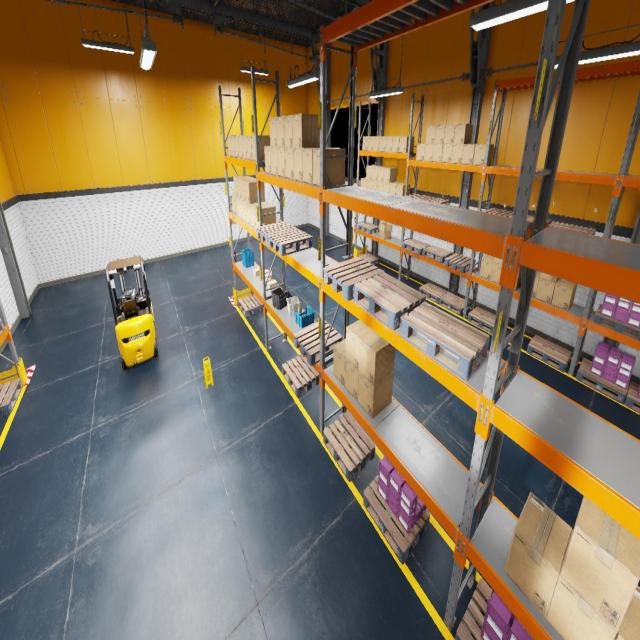box: (560, 496, 640, 632), (504, 492, 572, 618), (546, 530, 617, 640), (359, 331, 395, 386), (358, 372, 393, 418), (345, 320, 373, 371), (614, 586, 640, 640), (313, 148, 345, 187), (302, 148, 331, 184), (292, 113, 320, 148), (551, 278, 577, 310), (535, 278, 560, 304), (333, 338, 346, 387), (344, 358, 358, 402), (250, 202, 269, 228), (255, 204, 276, 227), (244, 180, 265, 203), (251, 135, 270, 160), (472, 144, 493, 165), (240, 178, 256, 202), (453, 124, 473, 143), (233, 176, 251, 197), (479, 255, 494, 280), (237, 177, 254, 199), (293, 148, 302, 181), (284, 114, 292, 148), (462, 144, 475, 164), (285, 148, 293, 179), (276, 116, 284, 147), (451, 144, 464, 163), (277, 147, 285, 177), (399, 136, 414, 152), (379, 222, 392, 240), (269, 117, 277, 146), (443, 125, 455, 144), (270, 147, 278, 175), (383, 167, 397, 183), (264, 146, 272, 173), (540, 272, 559, 283), (532, 271, 540, 297), (491, 263, 501, 283), (442, 144, 453, 162), (434, 125, 445, 143), (425, 125, 436, 143), (432, 144, 443, 162), (366, 164, 378, 180), (378, 166, 390, 181), (372, 165, 384, 180), (424, 144, 434, 162), (396, 183, 410, 195), (416, 142, 425, 160), (246, 135, 252, 160), (389, 182, 402, 193), (514, 270, 521, 290), (392, 136, 400, 152), (242, 136, 247, 159), (238, 136, 243, 158), (246, 202, 251, 224), (234, 136, 239, 157), (238, 198, 243, 219), (379, 136, 386, 151), (373, 136, 380, 151), (267, 280, 277, 290), (230, 136, 235, 156), (227, 136, 232, 156), (386, 136, 392, 152), (231, 194, 236, 213), (242, 200, 246, 221), (362, 136, 368, 150), (235, 196, 239, 216), (261, 278, 270, 286), (265, 270, 272, 280), (368, 136, 373, 150), (253, 267, 260, 276), (383, 182, 389, 192), (377, 181, 383, 191), (371, 180, 377, 190), (260, 269, 268, 276), (494, 257, 502, 264), (361, 177, 366, 187), (366, 179, 371, 188), (520, 266, 520, 270)
forklift: (106, 255, 158, 370)
pallets: (400, 302, 490, 381), (363, 475, 430, 564), (354, 273, 426, 330), (323, 411, 375, 482), (323, 256, 384, 300), (576, 358, 629, 403), (455, 578, 492, 639), (294, 320, 342, 366), (593, 304, 640, 340), (526, 335, 572, 371), (282, 354, 319, 397), (268, 229, 312, 255), (256, 222, 296, 244), (0, 377, 22, 416), (468, 306, 496, 334), (439, 292, 470, 315), (548, 221, 596, 235), (444, 253, 475, 273), (238, 293, 263, 317), (419, 283, 448, 303), (422, 245, 452, 263), (624, 380, 640, 413), (508, 215, 552, 225), (403, 239, 430, 255), (482, 208, 512, 217), (358, 222, 379, 234), (358, 253, 379, 265), (422, 197, 450, 204), (407, 194, 432, 199), (0, 319, 5, 336)
